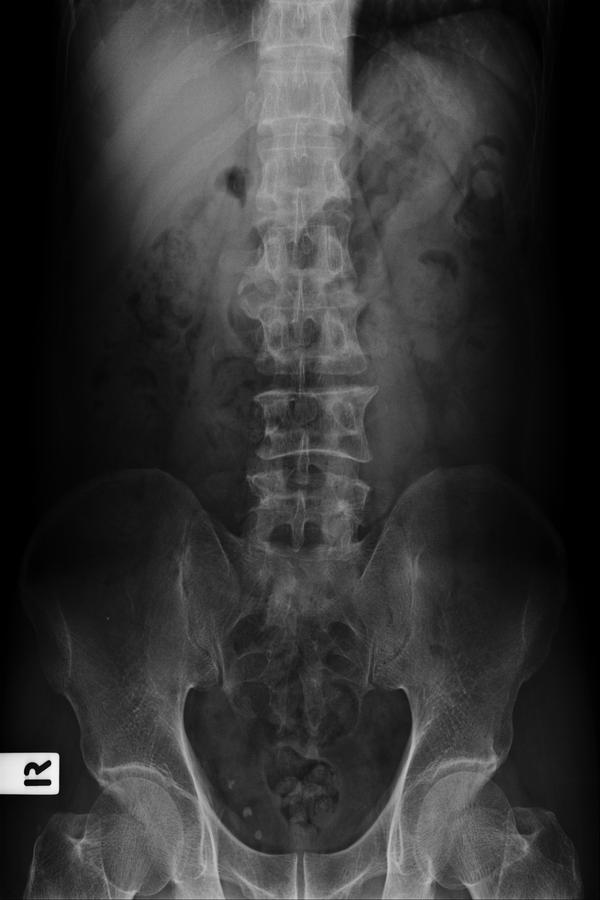lumbar scoliosis: (243, 17, 378, 586)
